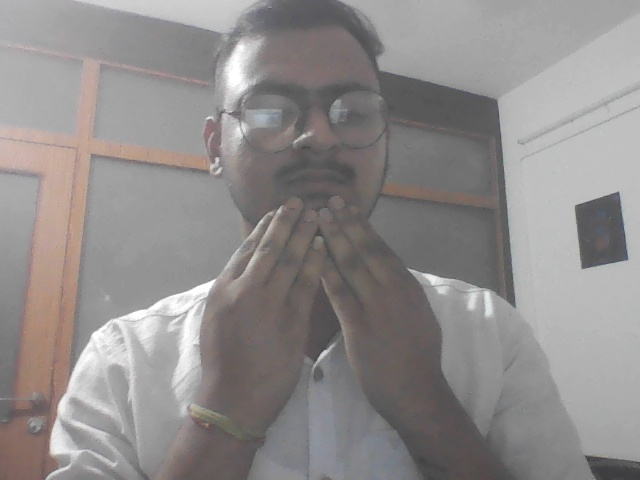ThankYou: (192, 190, 470, 451)
